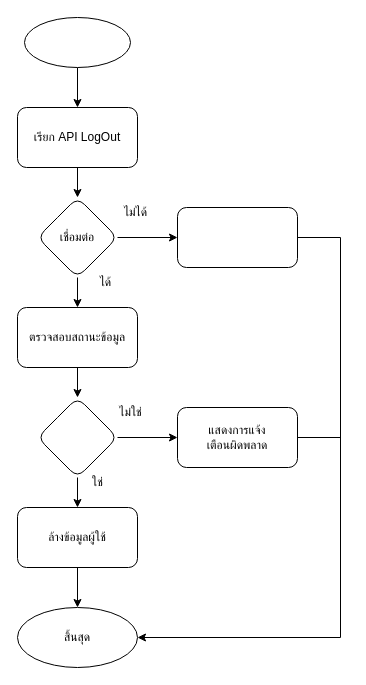
This 366x685 diagram has some shape labels left out. The shapes that lost their labels are listed below. From the top down, each one's box as (x1, y1, x2, y2) in pixels, then its label:
(24, 16, 130, 68): เริ่มต้น
(176, 206, 298, 268): แสดงแจ้งเตือนว่าระบบไม่สามารถเชื่อมต่อได้
(36, 396, 118, 478): สถานะสำเร็จ
